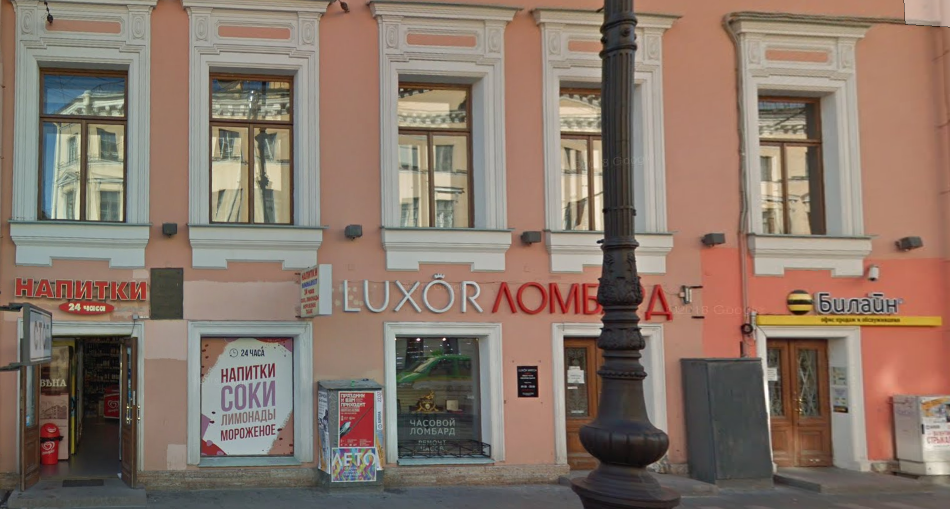cantilever: (286, 258, 336, 324)
door: (27, 330, 135, 483), (762, 335, 831, 468)
signboard: (341, 271, 684, 328), (754, 282, 943, 331), (14, 268, 152, 322)
window: (208, 70, 295, 227), (197, 327, 295, 461), (37, 68, 122, 219), (395, 71, 475, 227), (400, 334, 485, 457), (755, 92, 829, 226), (560, 82, 609, 235)
